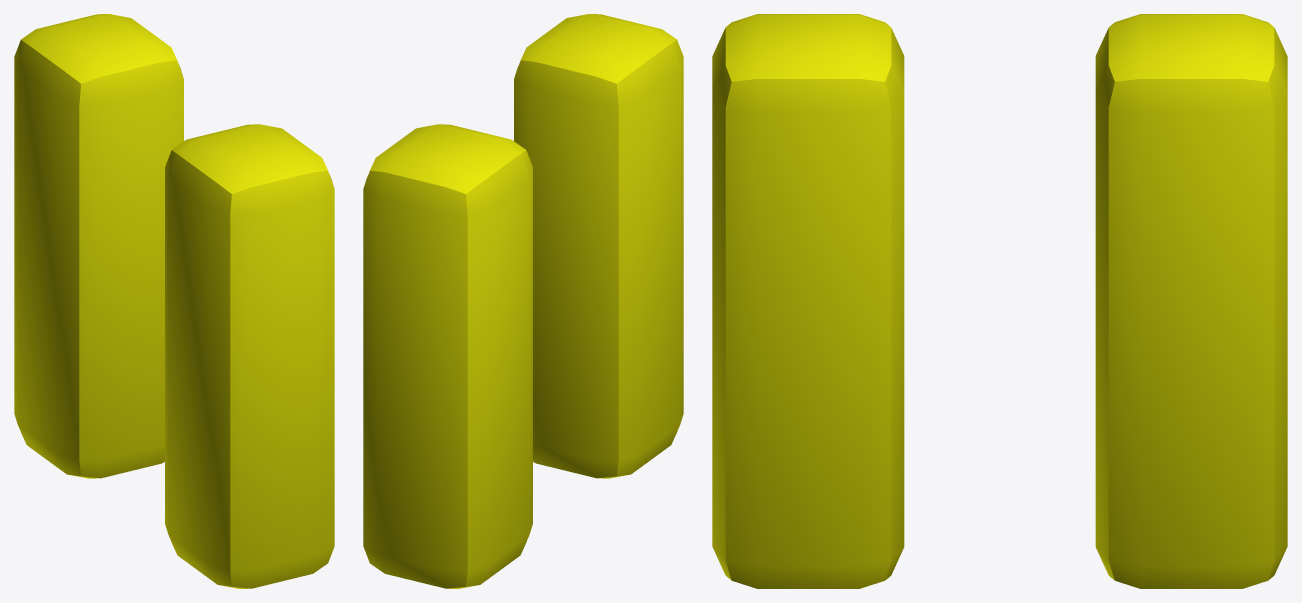
Rendered from Pause.fbx.
The picture shows the model from 3 angles, left to right: view 1: azimuth 30°, elevation 25°; view 2: azimuth 150°, elevation 25°; view 3: azimuth 270°, elevation 25°; orthographic projection. The views are drawn at different scales.
Parts seen in each view (by area): view 1: polySurface1; view 2: polySurface1; view 3: polySurface1.
Part boxes in pixels (bbox=[...]): polySurface1: bbox=[14, 14, 334, 588]; polySurface1: bbox=[363, 14, 683, 588]; polySurface1: bbox=[712, 14, 1287, 588].
Size of the model in its own units: 0.1684 by 0.5515 by 0.5384.
